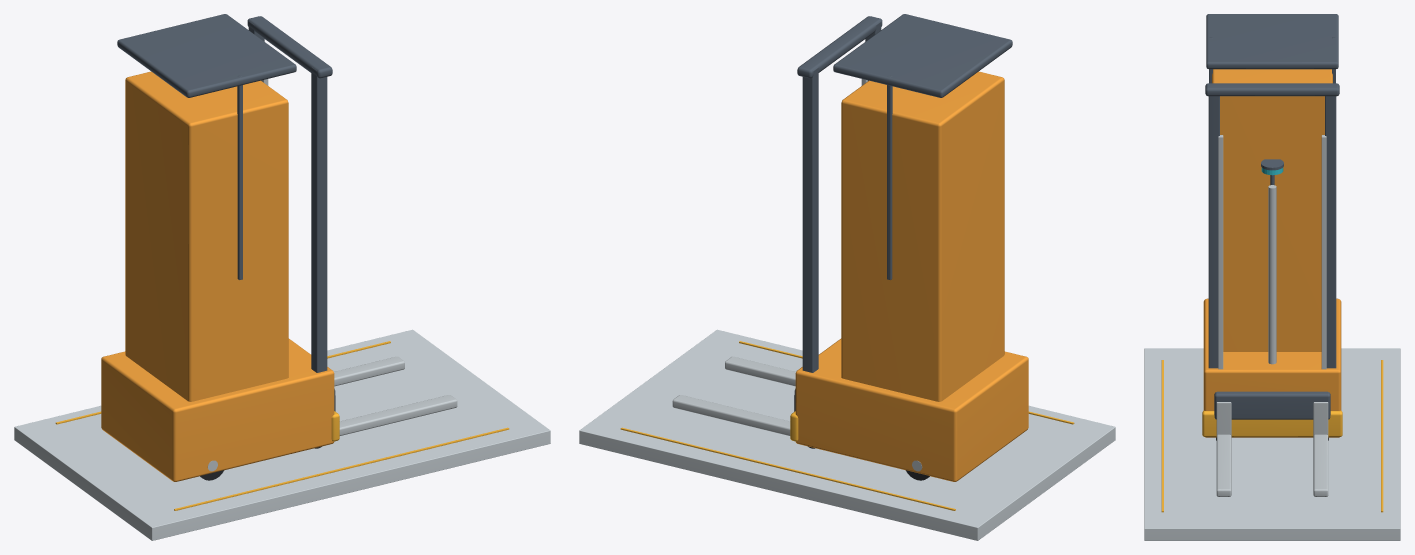
3 renders of one model, left to right at view 1: azimuth 30°, elevation 25°; view 2: azimuth 150°, elevation 25°; view 3: azimuth 270°, elevation 25°, orthographic. The views are drawn at different scales.
Visible parts, largest first — view 1: Operator compartment and guard, Ground plane, Power unit, Overhead guard, Lift mast outer rail, Fork tine / pallet handling, Mast crosshead, Overhead guard upright, Fork tine / pallet handling.001, Concept clearance guide; view 2: Operator compartment and guard, Ground plane, Power unit, Overhead guard, Lift mast outer rail.001, Fork tine / pallet handling.001, Mast crosshead, Overhead guard upright.001, Fork tine / pallet handling, Concept clearance guide.001; view 3: Ground plane, Operator compartment and guard, Overhead guard, Power unit, Lift mast outer rail, Lift mast outer rail.001, Fork carriage, Front safety bumper, Mast crosshead, Hydraulic lift cylinder, Lift mast inner rail, Lift mast inner rail.001 (+6 smaller).
Boxes of the visible parts, bbox=[...] form: Operator compartment and guard: bbox=[125, 71, 288, 401]; Ground plane: bbox=[14, 329, 550, 540]; Power unit: bbox=[101, 338, 334, 481]; Overhead guard: bbox=[117, 14, 296, 97]; Lift mast outer rail: bbox=[311, 67, 327, 372]; Fork tine / pallet handling: bbox=[339, 395, 457, 435]; Mast crosshead: bbox=[247, 16, 332, 78]; Overhead guard upright: bbox=[237, 75, 242, 279]; Fork tine / pallet handling.001: bbox=[334, 356, 404, 386]; Concept clearance guide: bbox=[174, 427, 509, 510]; Operator compartment and guard: bbox=[841, 71, 1004, 401]; Ground plane: bbox=[579, 329, 1115, 540]; Power unit: bbox=[795, 338, 1028, 481]; Overhead guard: bbox=[833, 14, 1012, 97]; Lift mast outer rail.001: bbox=[802, 67, 818, 372]; Fork tine / pallet handling.001: bbox=[672, 395, 790, 435]; Mast crosshead: bbox=[797, 16, 882, 78]; Overhead guard upright.001: bbox=[887, 75, 892, 279]; Fork tine / pallet handling: bbox=[725, 356, 795, 386]; Concept clearance guide.001: bbox=[620, 427, 955, 510]; Ground plane: bbox=[1144, 348, 1400, 540]; Operator compartment and guard: bbox=[1212, 69, 1332, 351]; Overhead guard: bbox=[1206, 14, 1338, 69]; Power unit: bbox=[1203, 298, 1341, 437]; Lift mast outer rail: bbox=[1208, 96, 1219, 368]; Lift mast outer rail.001: bbox=[1325, 96, 1336, 368]; Fork carriage: bbox=[1214, 391, 1330, 419]; Front safety bumper: bbox=[1202, 410, 1342, 436]; Mast crosshead: bbox=[1205, 83, 1339, 96]; Hydraulic lift cylinder: bbox=[1268, 185, 1276, 364]; Lift mast inner rail: bbox=[1218, 135, 1223, 369]; Lift mast inner rail.001: bbox=[1321, 135, 1326, 369].
Size of the model in its own units: 3.7 by 3.62 by 2.22.
